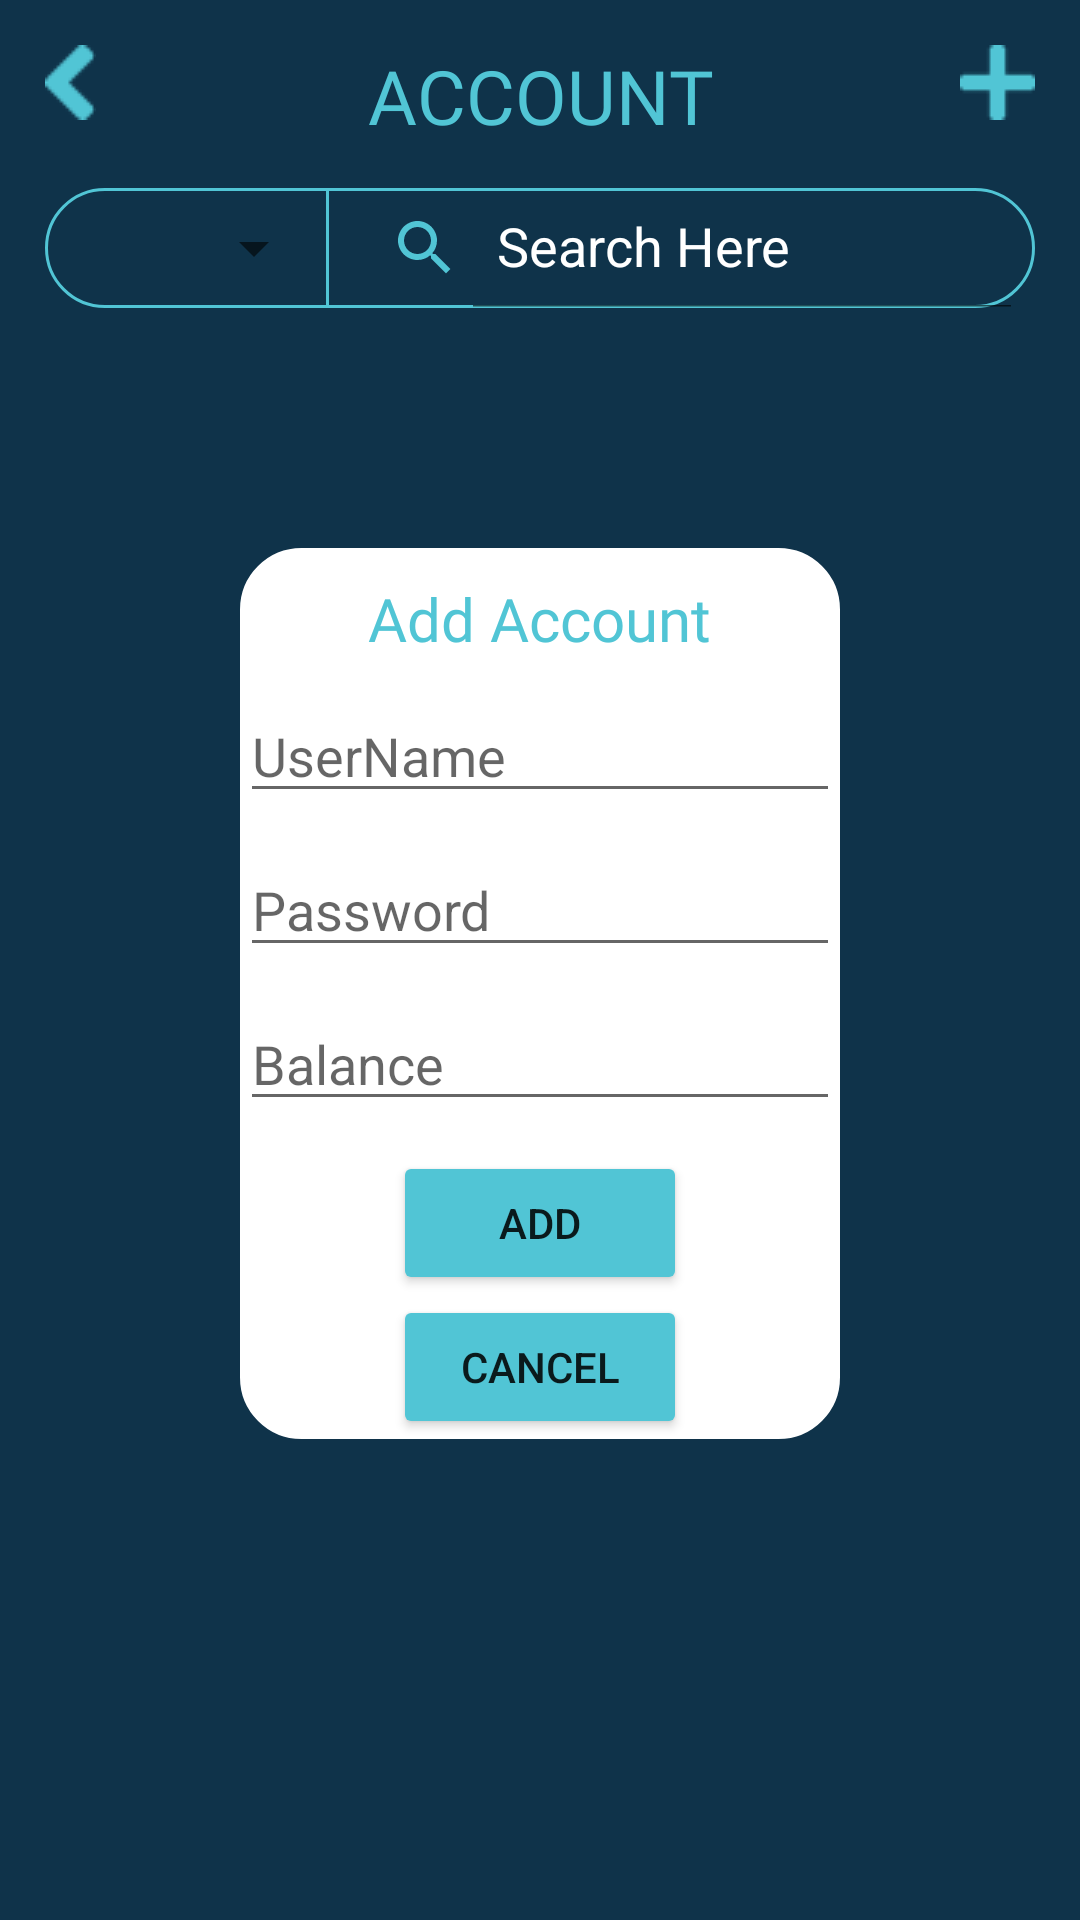

Screen size 1080 × 1920. Icon name, then its box in pixels as (x1, y1, x2, y2):
back arrow: (45, 45, 94, 120)
plus: (960, 45, 1035, 120)
